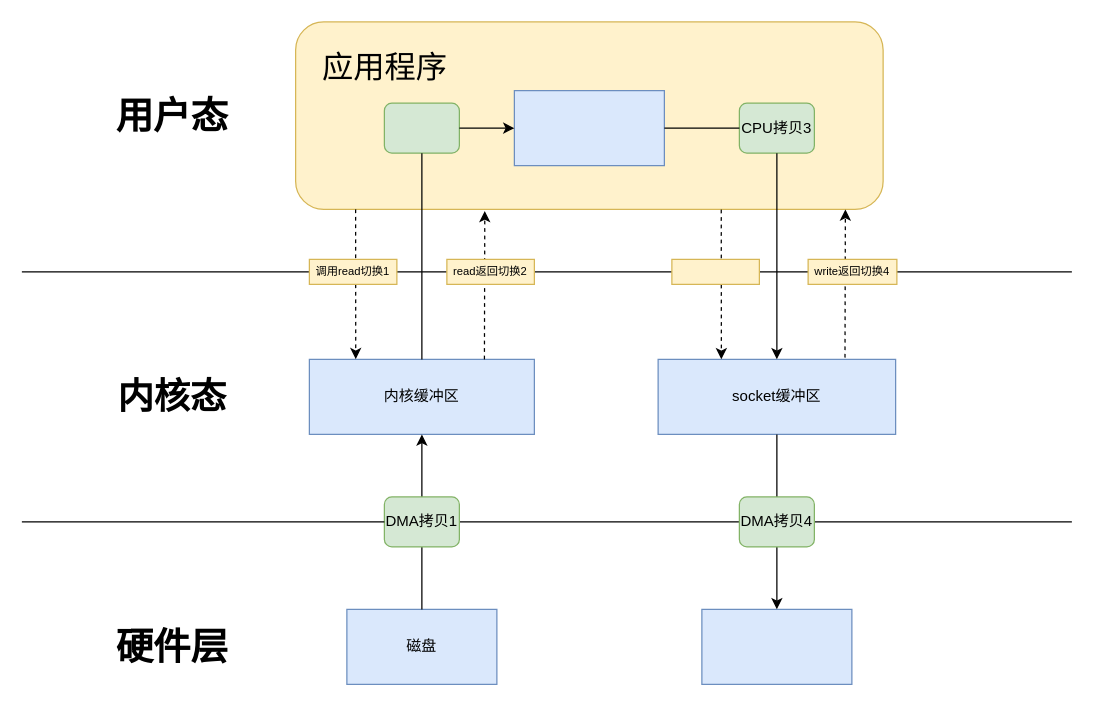
The diagram is 1095 pixels wide and 706 high, and some of its shapes have lost their labels. The centre of each missing label's shape, as x and y in pixels:
"CPU拷贝2" belongs at (421,127).
"用户缓冲区" belongs at (588,127).
"网卡" belongs at (776,646).
"调用write切换3" belongs at (715,271).
